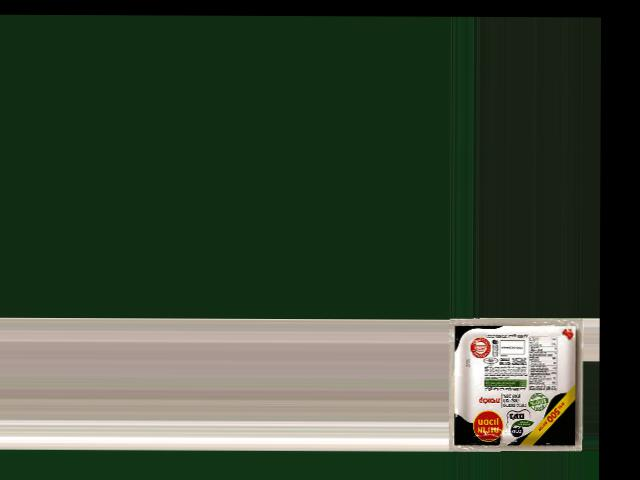cheese: (452, 328, 582, 442)
